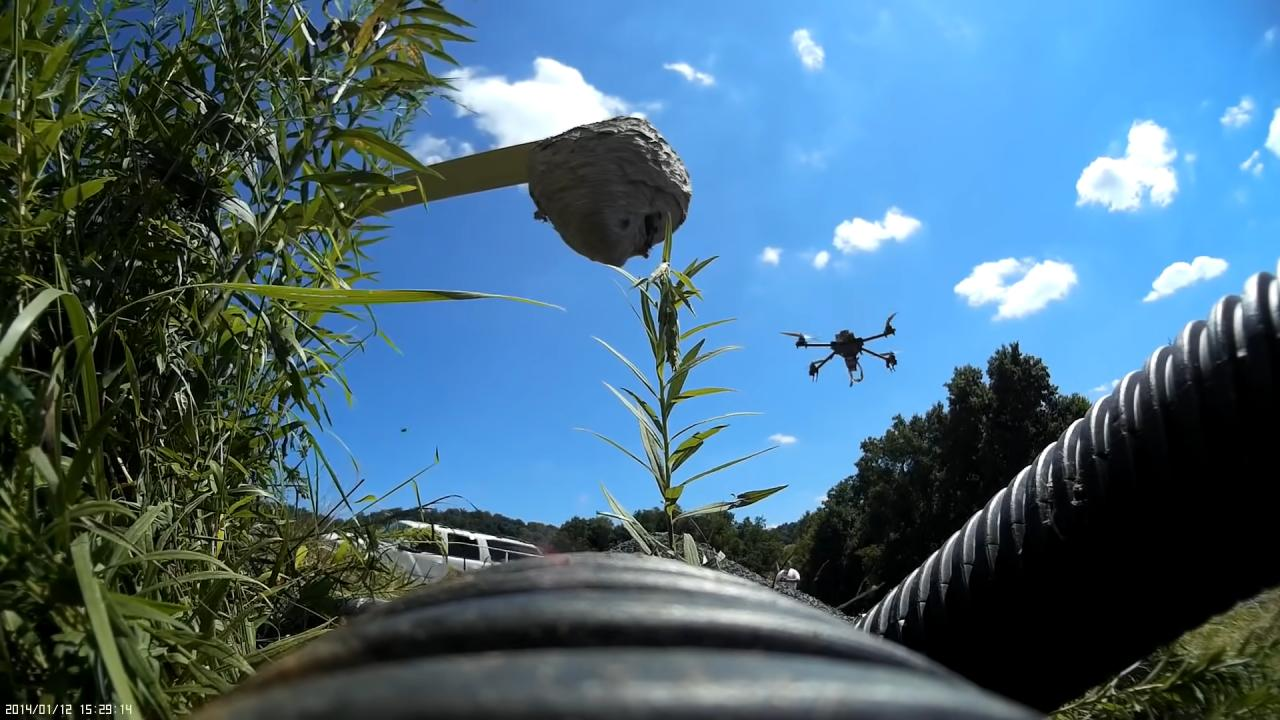Drone: (774, 305, 914, 399)
